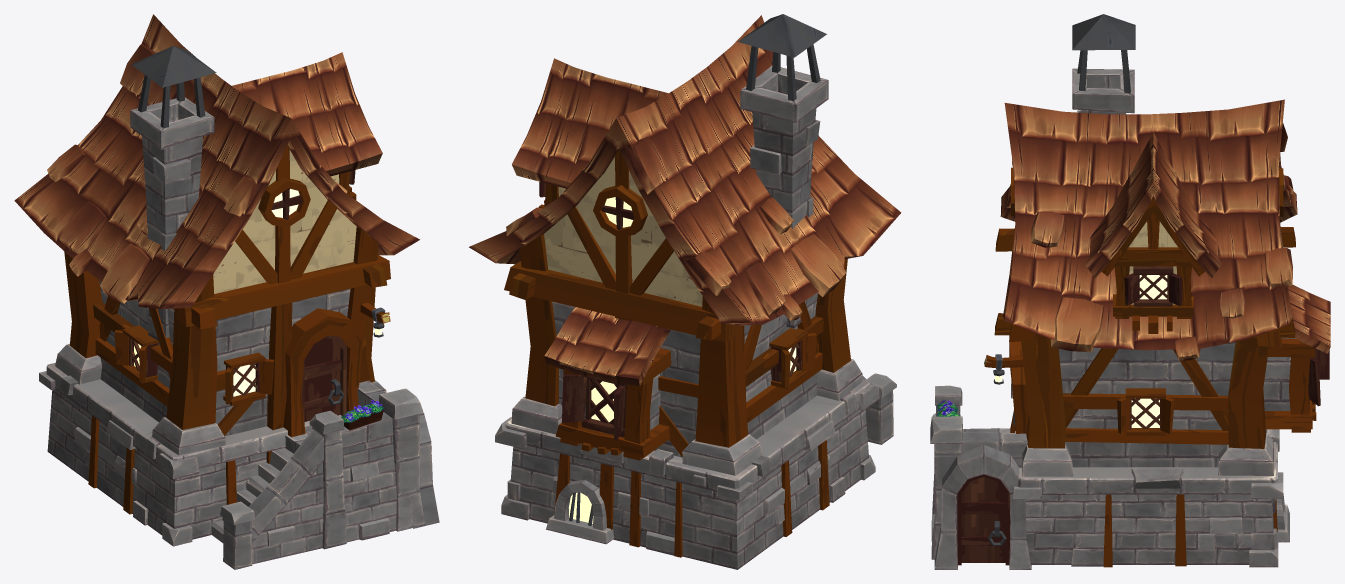
Rendered from Building3.fbx.
3 views of the same model, side by side, from view 1: azimuth 30°, elevation 25°; view 2: azimuth 150°, elevation 25°; view 3: azimuth 270°, elevation 25° (orthographic). The views are drawn at different scales.
Visible parts, largest first — view 1: SM_BLD_body_v03_01, SM_BLD_stairs_v04_v2, BP_BLD_house_22, SM_BLD_chimney_v01_03, SM_BLD_window_v03_01, SM_BLD_door_v03_01, SM_BLD_window_v08_02_1, SM_BLD_window_v07_01_1, SM_BLD_window_v08_02_3, SM_BLD_door_v04_01, SM_PROP_PLANT_pot_v1_01; view 2: SM_BLD_body_v03_01, BP_BLD_house_22, SM_BLD_window_v01_01, SM_BLD_chimney_v01_03, SM_BLD_window_v03_01, SM_BLD_window_v09_04, SM_BLD_window_v08_02_3, SM_BLD_window_v07_01_2, SM_BLD_stairs_v04_v2; view 3: SM_BLD_body_v03_01, BP_BLD_house_22, SM_BLD_window_v03_01, SM_BLD_door_v04_01, SM_BLD_window_v01_01, SM_BLD_chimney_v01_03, SM_BLD_stairs_v04_v2, SM_BLD_window_v08_02_2, SM_BLD_door_v03_01, SM_BLD_window_v09_04.
Part boxes in pixels (box(x1,y1,x2,y2)): SM_BLD_body_v03_01: box(14, 14, 419, 455); SM_BLD_stairs_v04_v2: box(211, 380, 424, 569); BP_BLD_house_22: box(39, 363, 341, 546); SM_BLD_chimney_v01_03: box(130, 46, 216, 340); SM_BLD_window_v03_01: box(232, 52, 382, 199); SM_BLD_door_v03_01: box(283, 308, 363, 437); SM_BLD_window_v08_02_1: box(223, 352, 274, 405); SM_BLD_window_v07_01_1: box(258, 178, 310, 227); SM_BLD_window_v08_02_3: box(114, 325, 159, 383); SM_BLD_door_v04_01: box(413, 413, 439, 528); SM_PROP_PLANT_pot_v1_01: box(341, 400, 383, 430); SM_BLD_body_v03_01: box(469, 15, 901, 475); BP_BLD_house_22: box(495, 380, 879, 569); SM_BLD_window_v01_01: box(544, 307, 671, 460); SM_BLD_chimney_v01_03: box(738, 14, 828, 328); SM_BLD_window_v03_01: box(512, 58, 668, 208); SM_BLD_window_v09_04: box(546, 480, 614, 544); SM_BLD_window_v08_02_3: box(769, 328, 816, 389); SM_BLD_window_v07_01_2: box(593, 185, 647, 237); SM_BLD_stairs_v04_v2: box(862, 373, 896, 444); SM_BLD_body_v03_01: box(994, 99, 1297, 476); BP_BLD_house_22: box(1011, 381, 1283, 567); SM_BLD_window_v03_01: box(1085, 132, 1221, 333); SM_BLD_door_v04_01: box(934, 445, 1031, 569); SM_BLD_window_v01_01: box(1263, 285, 1330, 432); SM_BLD_chimney_v01_03: box(1072, 14, 1135, 114); SM_BLD_stairs_v04_v2: box(930, 385, 1027, 559); SM_BLD_window_v08_02_2: box(1117, 388, 1174, 435); SM_BLD_door_v03_01: box(1009, 341, 1028, 433); SM_BLD_window_v09_04: box(1276, 493, 1289, 542).
Size of the model in its own units: 722 by 1170 by 912.
